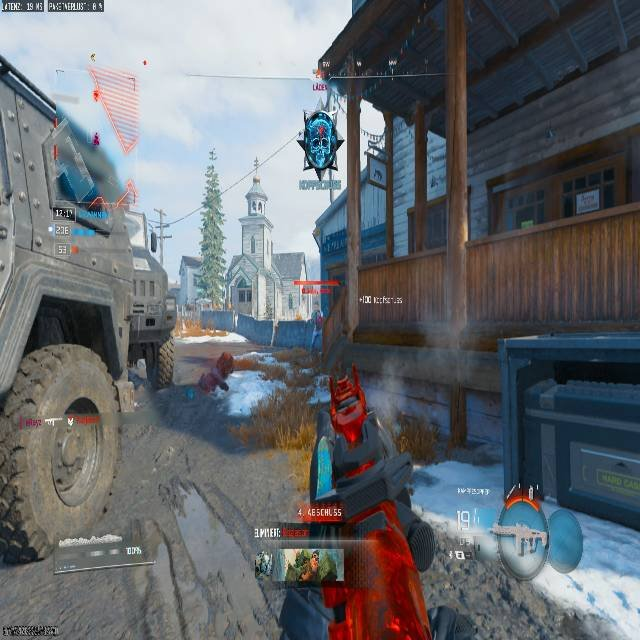head: (328, 373, 367, 443)
player: (317, 373, 437, 636)
